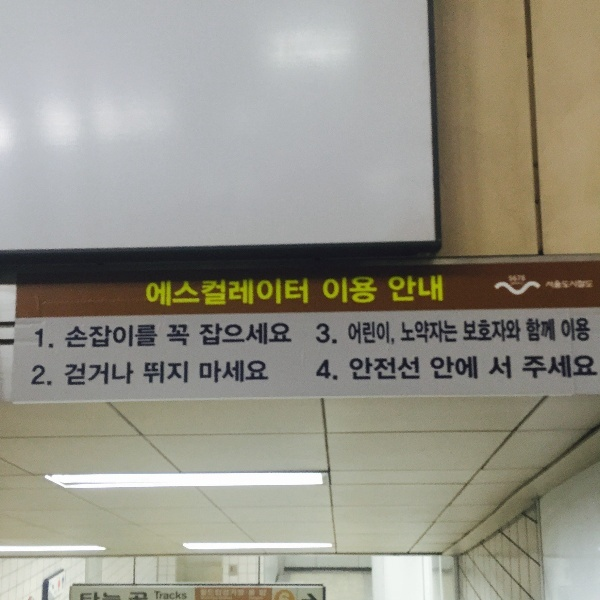text: (401, 275, 416, 304), (417, 275, 432, 304), (161, 278, 176, 307), (177, 278, 192, 307), (193, 278, 208, 307), (209, 278, 224, 307), (225, 278, 240, 307), (241, 278, 256, 307), (257, 278, 272, 307), (273, 278, 288, 307), (289, 278, 304, 307), (337, 276, 352, 304), (353, 276, 368, 304), (146, 278, 160, 307), (81, 323, 96, 350), (97, 323, 112, 350), (113, 323, 128, 350), (129, 323, 144, 350), (497, 355, 512, 381), (321, 322, 336, 347), (353, 356, 368, 381), (369, 356, 384, 381), (385, 356, 400, 381), (401, 356, 416, 381), (433, 355, 448, 380), (449, 355, 464, 380), (529, 355, 544, 380), (545, 355, 560, 380), (561, 355, 576, 380), (577, 355, 592, 380), (529, 317, 544, 342), (561, 317, 576, 342), (465, 318, 480, 343), (481, 318, 496, 343), (497, 318, 512, 343), (401, 319, 416, 344), (417, 319, 432, 344), (433, 319, 448, 344), (209, 360, 224, 385), (225, 360, 240, 385), (241, 360, 256, 385), (209, 322, 224, 347), (225, 322, 240, 347), (241, 322, 256, 347), (257, 322, 272, 347), (273, 322, 288, 347), (323, 276, 336, 304), (33, 364, 48, 388), (353, 321, 368, 345), (369, 321, 384, 345), (81, 362, 96, 386), (97, 362, 112, 386), (113, 362, 128, 386), (145, 323, 158, 350), (577, 317, 591, 342), (388, 275, 400, 304), (145, 361, 160, 384), (161, 361, 176, 384), (66, 362, 80, 386), (465, 355, 478, 380), (68, 323, 80, 350), (433, 275, 444, 304), (35, 327, 48, 351), (257, 360, 269, 385), (177, 324, 190, 347), (177, 361, 189, 384), (545, 317, 556, 342), (326, 356, 336, 383), (369, 276, 378, 304), (385, 321, 395, 345), (513, 318, 522, 343), (199, 322, 208, 347), (167, 324, 176, 347), (449, 319, 457, 344), (200, 360, 208, 385), (561, 279, 576, 291), (577, 279, 592, 291), (546, 279, 560, 291), (593, 355, 599, 380), (49, 327, 55, 351), (513, 274, 527, 284), (129, 362, 134, 386), (305, 278, 309, 307), (492, 355, 496, 381), (316, 322, 320, 347), (524, 355, 528, 380), (349, 356, 352, 381), (417, 356, 420, 381), (525, 317, 528, 342), (289, 322, 292, 347), (49, 364, 52, 388), (349, 321, 352, 345), (337, 356, 339, 383), (508, 274, 512, 284), (337, 322, 338, 347), (431, 355, 432, 380), (463, 318, 464, 343), (593, 279, 594, 291)
